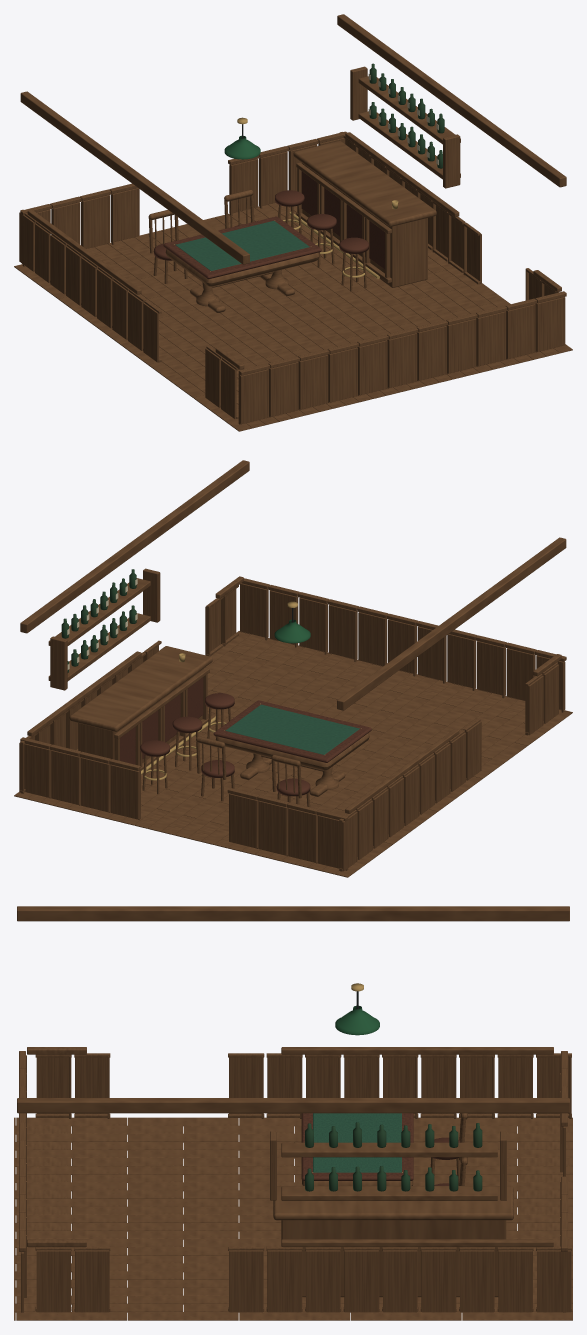
The model's file is tavern-detail.glb.
The picture shows the model from 3 angles, top to bottom: view 1: azimuth 30°, elevation 25°; view 2: azimuth 150°, elevation 25°; view 3: azimuth 270°, elevation 25°; orthographic projection. The views are drawn at different scales.
Parts seen in each view (by area): view 1: TavernDetail_walnut, TavernFloor, TavernDetail_bar_walnut, TavernDetail_bar_leather, TavernDetail_table_fabric, TavernDetail_table_walnut, TavernDetail_table_leather, TavernDetail_bar_bottle, TavernDetail_chairs_walnut, TavernDetail_bar_brass, TavernDetail_enamel; view 2: TavernDetail_walnut, TavernFloor, TavernDetail_bar_walnut, TavernDetail_table_fabric, TavernDetail_bar_leather, TavernDetail_table_walnut, TavernDetail_table_leather, TavernDetail_bar_bottle, TavernDetail_chairs_walnut, TavernDetail_chairs_leather, TavernDetail_enamel, TavernDetail_bar_brass; view 3: TavernDetail_walnut, TavernFloor, TavernDetail_bar_walnut, TavernDetail_table_fabric, TavernDetail_bar_bottle, TavernDetail_table_leather, TavernDetail_enamel, TavernDetail_chairs_walnut.
Boxes of the visible parts, x1,y1,x2,y2 form: TavernDetail_walnut: [19, 14, 566, 424]; TavernFloor: [14, 203, 572, 431]; TavernDetail_bar_walnut: [278, 66, 460, 291]; TavernDetail_bar_leather: [275, 171, 384, 269]; TavernDetail_table_fabric: [175, 220, 309, 270]; TavernDetail_table_walnut: [165, 249, 319, 312]; TavernDetail_table_leather: [163, 216, 321, 279]; TavernDetail_bar_bottle: [369, 63, 444, 168]; TavernDetail_chairs_walnut: [148, 190, 254, 283]; TavernDetail_bar_brass: [283, 200, 398, 279]; TavernDetail_enamel: [224, 135, 260, 159]; TavernDetail_walnut: [19, 460, 566, 871]; TavernFloor: [14, 631, 572, 877]; TavernDetail_bar_walnut: [48, 568, 231, 794]; TavernDetail_table_fabric: [225, 704, 359, 754]; TavernDetail_bar_leather: [120, 677, 234, 764]; TavernDetail_table_walnut: [216, 733, 369, 796]; TavernDetail_table_leather: [213, 700, 371, 762]; TavernDetail_bar_bottle: [61, 569, 136, 672]; TavernDetail_chairs_walnut: [196, 736, 310, 807]; TavernDetail_chairs_leather: [201, 760, 310, 796]; TavernDetail_enamel: [274, 619, 310, 643]; TavernDetail_bar_brass: [141, 653, 226, 780]; TavernDetail_walnut: [17, 906, 571, 1312]; TavernFloor: [14, 1117, 572, 1320]; TavernDetail_bar_walnut: [270, 1131, 513, 1297]; TavernDetail_table_fabric: [313, 1113, 401, 1172]; TavernDetail_bar_bottle: [305, 1122, 482, 1191]; TavernDetail_table_leather: [301, 1113, 413, 1180]; TavernDetail_enamel: [335, 1005, 379, 1035]; TavernDetail_chairs_walnut: [430, 1113, 467, 1185].
Bounding box in the file's own units: 5.97 × 3.01 × 6.97.
Materials: 8 (3 with a texture image).
